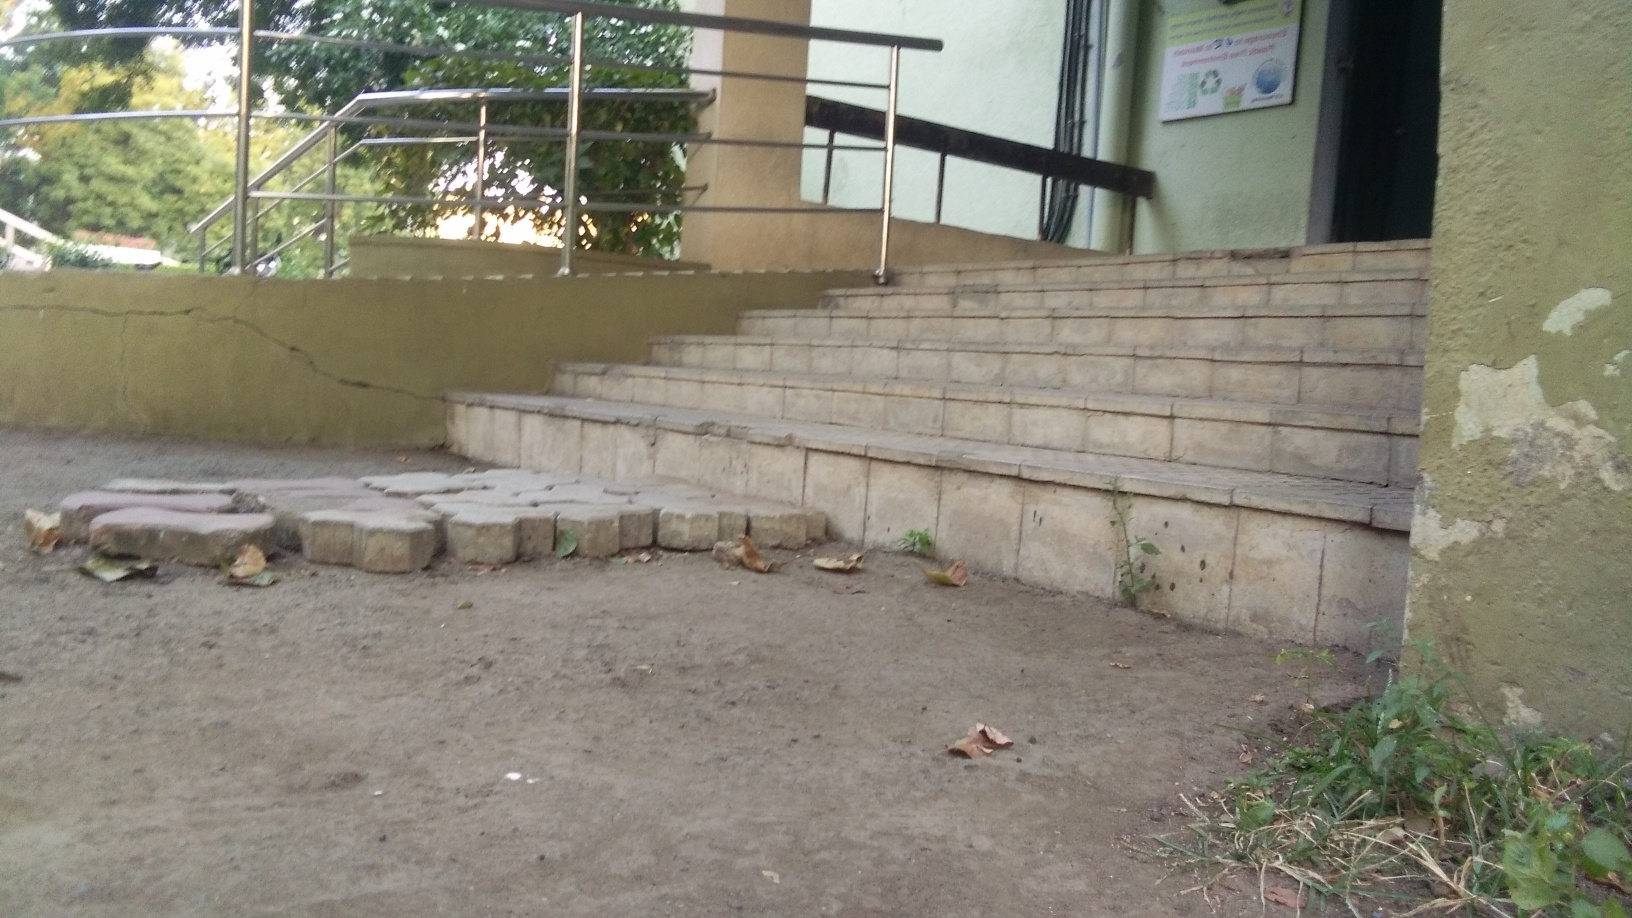stairs_up: (446, 220, 1424, 657)
